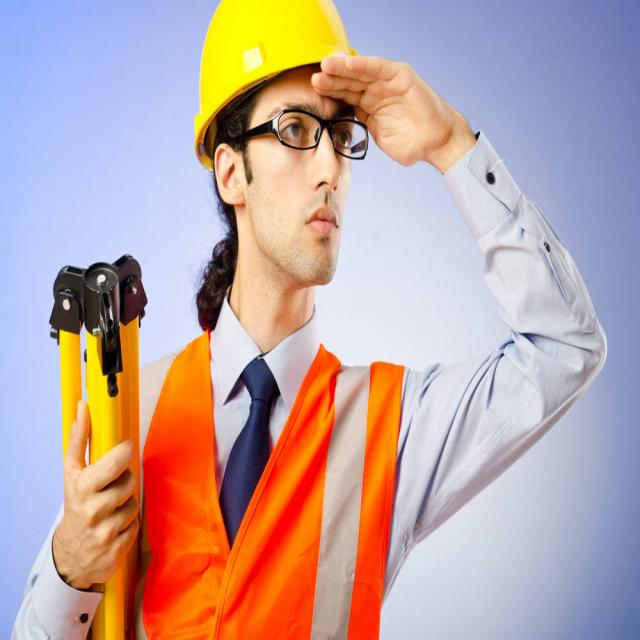Reflective-Jacket: (158, 324, 412, 640)
Safety-Helmet: (190, 2, 357, 149)
